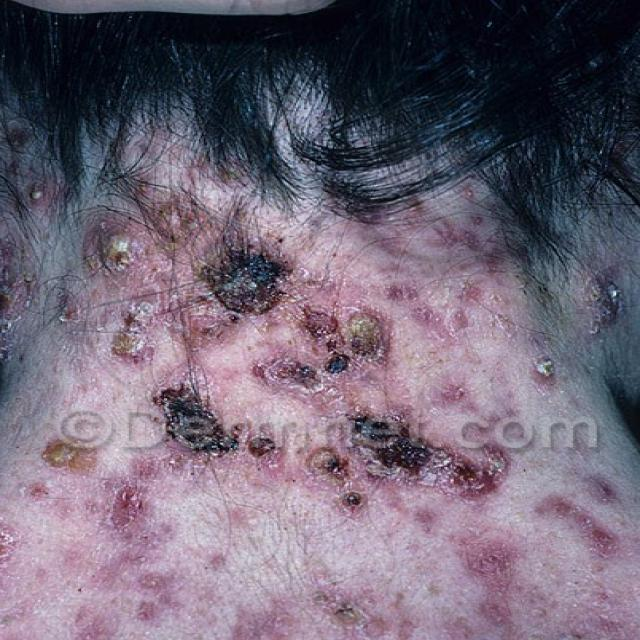Acne: (333, 409, 533, 528), (482, 241, 640, 324), (111, 145, 229, 234), (197, 218, 299, 320), (0, 139, 49, 347), (151, 368, 250, 467), (119, 518, 199, 627), (595, 457, 640, 636), (26, 416, 108, 498), (79, 208, 155, 286), (34, 429, 121, 496), (89, 316, 161, 370), (0, 511, 33, 578)
